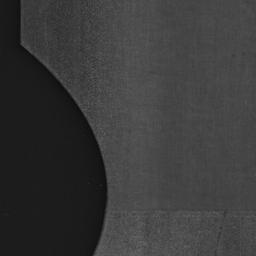Crescent gap: (22, 46, 107, 256)
